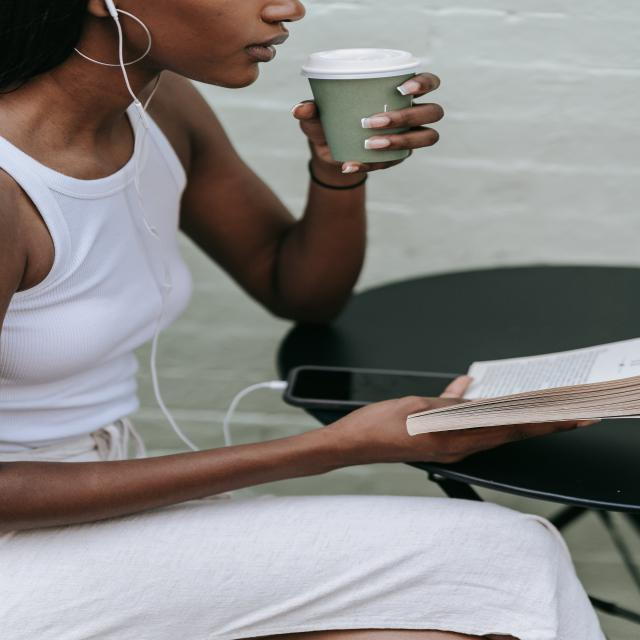cup: (302, 43, 428, 165)
